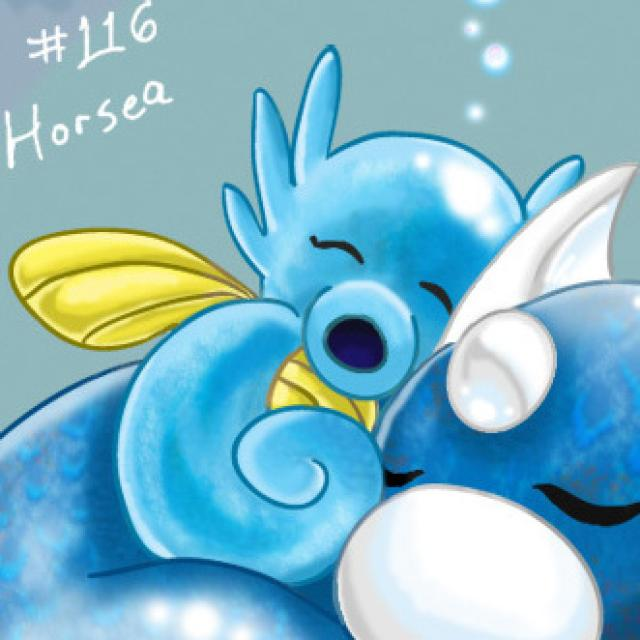Horsea: (119, 128, 502, 570)
